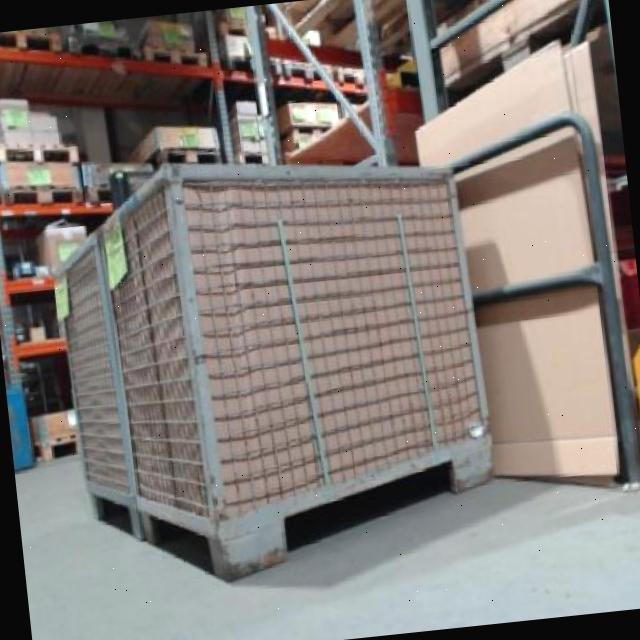pallet: (71, 420, 504, 591), (0, 173, 85, 213), (0, 135, 85, 170), (140, 138, 226, 169), (0, 26, 64, 67), (138, 39, 212, 69)
